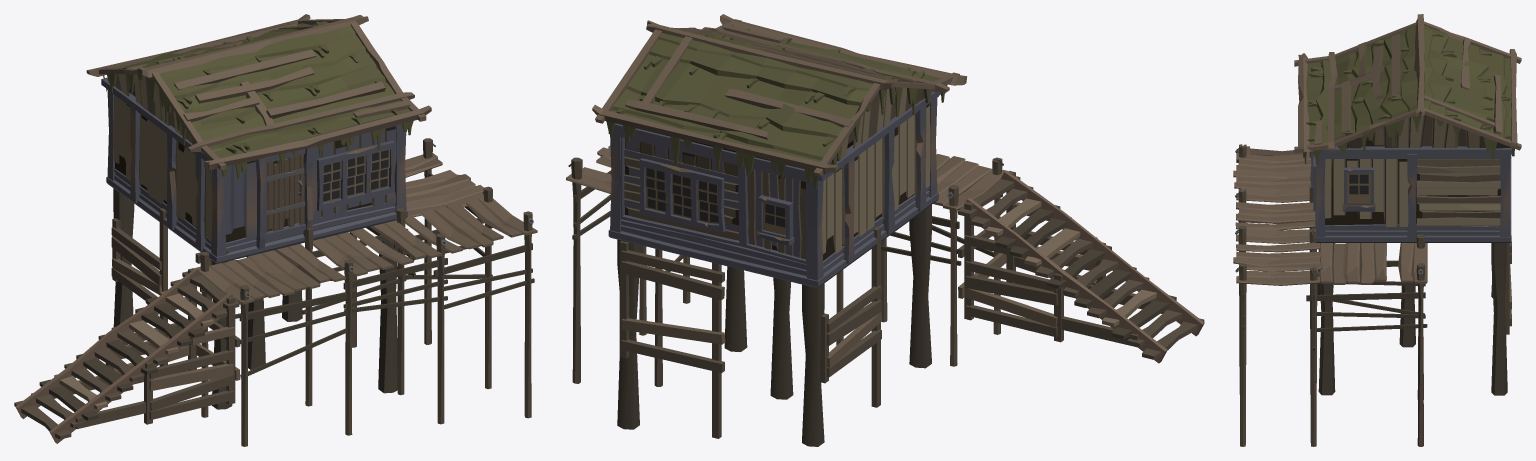
Rendered from SM_Bld_Shanty_Preset_07.glb.
The picture shows the model from 3 angles, left to right: view 1: azimuth 30°, elevation 25°; view 2: azimuth 150°, elevation 25°; view 3: azimuth 270°, elevation 25°; orthographic projection. The views are drawn at different scales.
Parts seen in each view (by area): view 1: SM_Bld_Shanty_Preset_07; view 2: SM_Bld_Shanty_Preset_07; view 3: SM_Bld_Shanty_Preset_07.
Part boxes in pixels (<box>): SM_Bld_Shanty_Preset_07: <box>14,14,537,446</box>; SM_Bld_Shanty_Preset_07: <box>566,14,1204,446</box>; SM_Bld_Shanty_Preset_07: <box>1233,14,1521,446</box>.
Bounding box in the file's own units: 0.1266 × 0.0861 × 0.0735.
